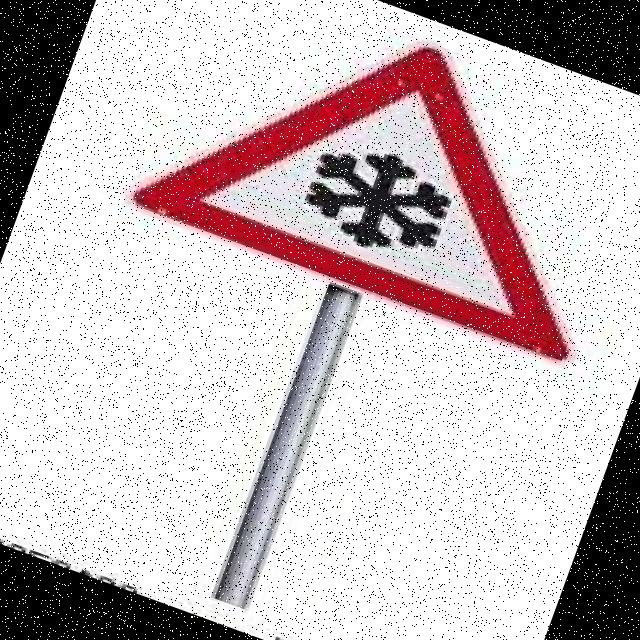snow_warning: (107, 0, 640, 387)
